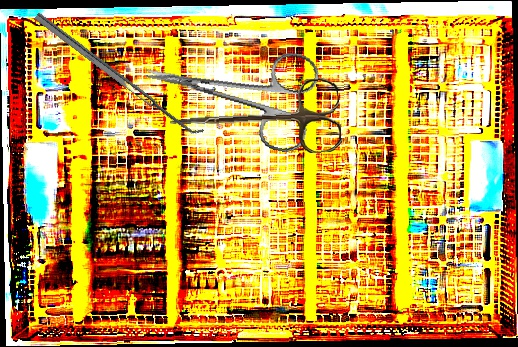Iris Scissors: (135, 21, 323, 156), (167, 77, 343, 163)
Spatula Surgical: (34, 6, 206, 141)
